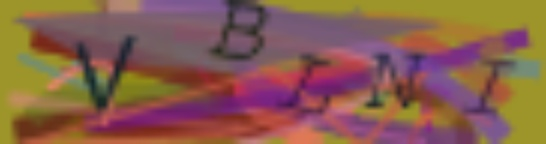B: (209, 1, 272, 60)
I: (461, 57, 520, 117)
L: (280, 49, 334, 120)
N: (360, 51, 430, 111)
V: (70, 32, 141, 114)
